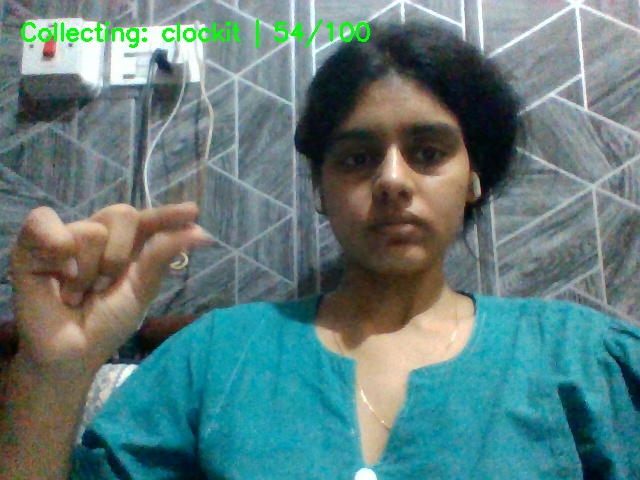clockit: (5, 167, 245, 400)
